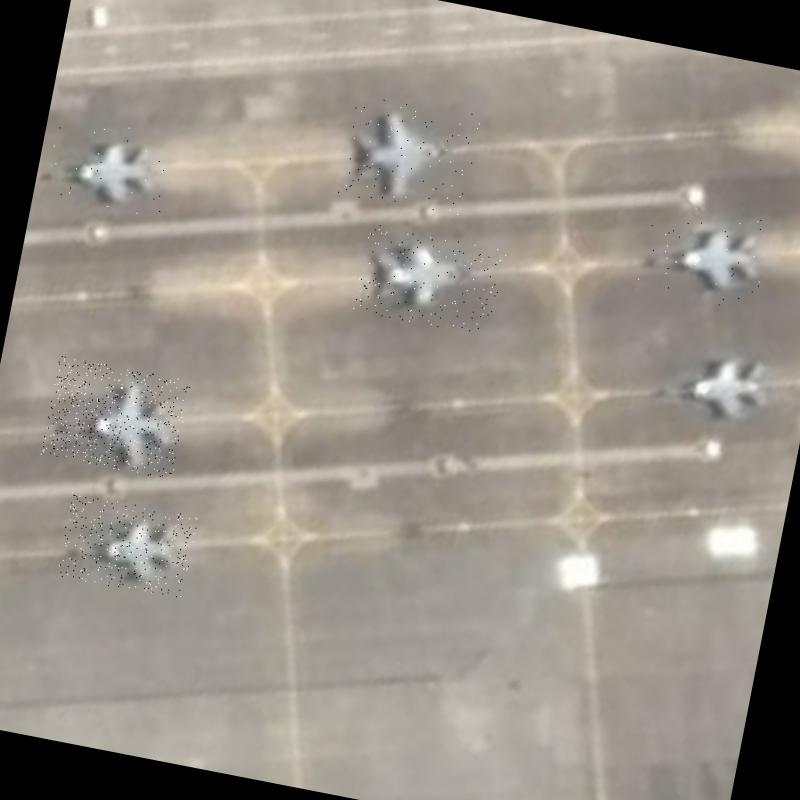A16: (40, 355, 191, 480), (336, 91, 481, 218), (352, 223, 506, 337), (635, 199, 772, 312), (55, 492, 198, 600), (34, 111, 176, 218), (646, 331, 786, 439)
